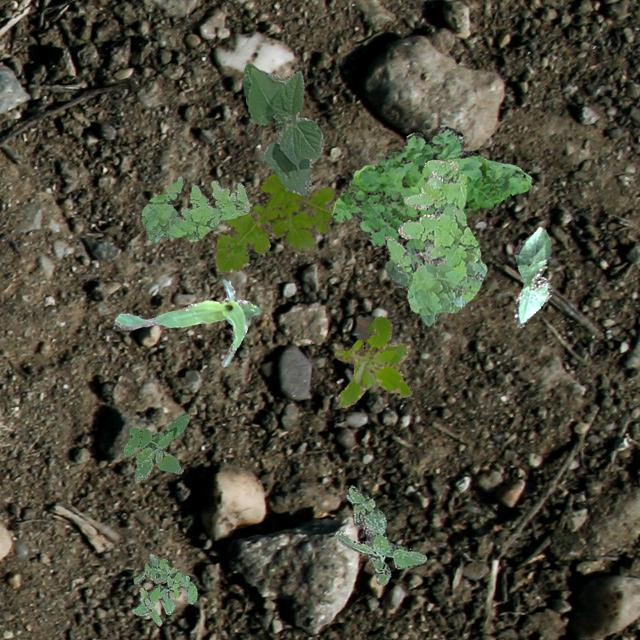crop: (114, 278, 258, 366), (242, 63, 322, 194), (512, 225, 552, 326)
weed: (330, 124, 530, 250), (386, 158, 486, 314), (215, 172, 336, 272), (334, 484, 426, 584), (140, 176, 248, 242), (334, 316, 411, 406), (130, 552, 196, 624), (122, 412, 188, 482), (384, 242, 436, 326)
